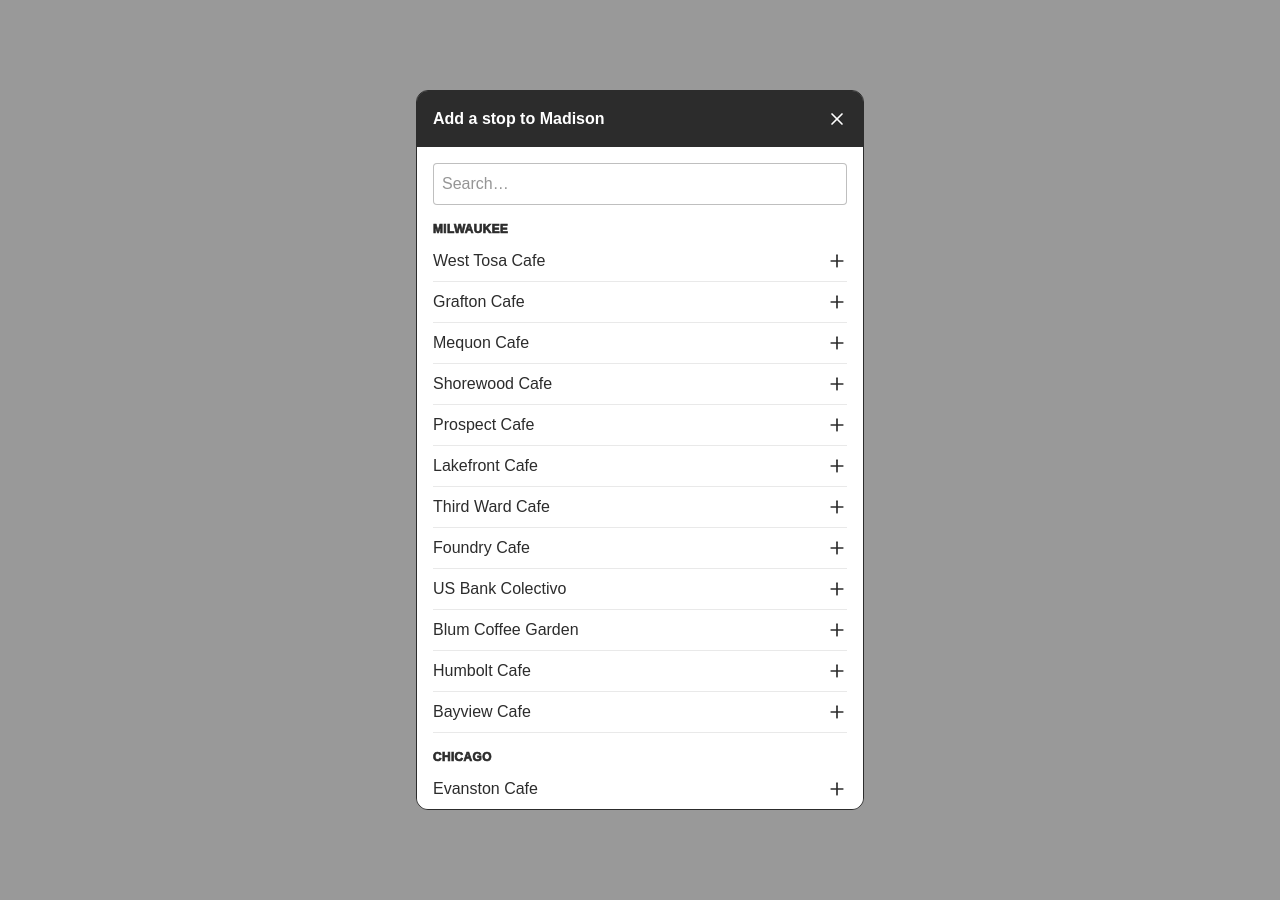
Test case: AddStopSheet › filters by the search box
The width and height of the screenshot is (1280, 900).
In the search field with placeholder "Search…": (640, 184) [433,163,847,205], type "West Tosa Cafe"
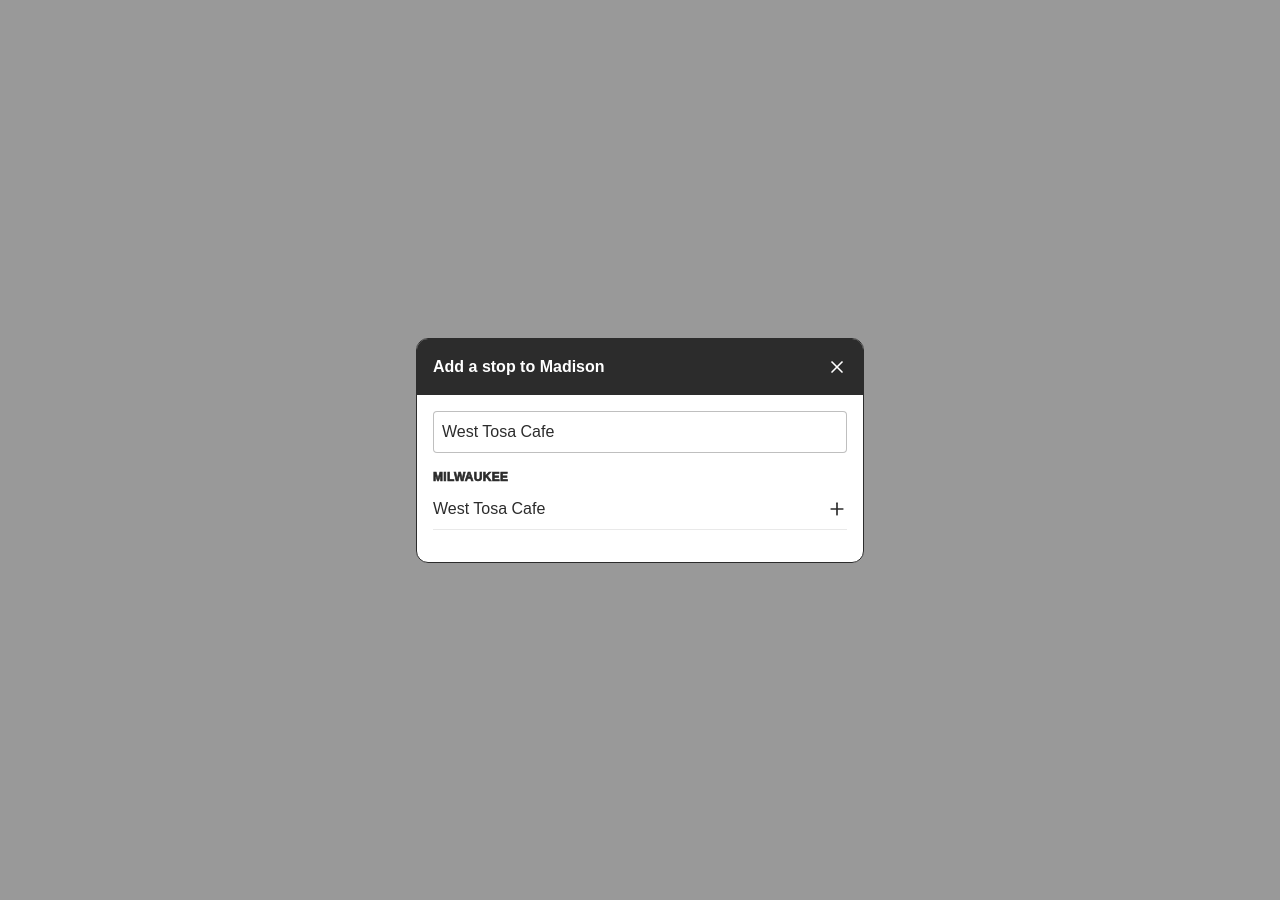
Expected: the text "West Tosa Cafe" is shown, [433,496,545,520]
Expected: the text "Grafton Cafe" is gone
